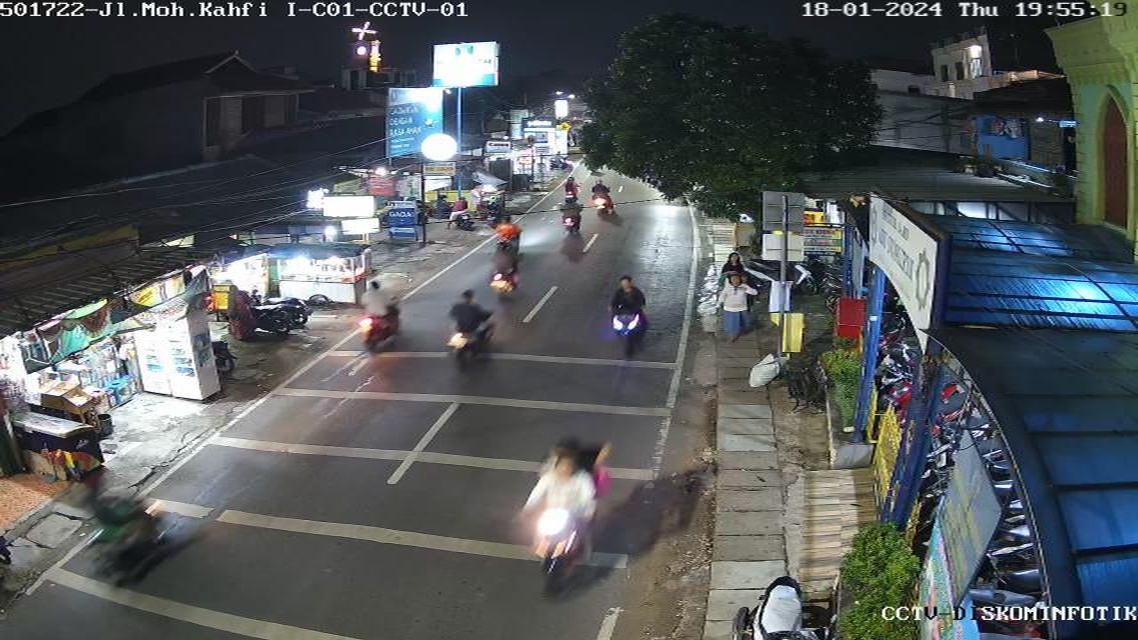Gerobak: (263, 248, 375, 307), (203, 250, 274, 315), (464, 175, 512, 225)
